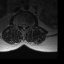CCS_normal: (23, 22, 25, 32)
LFS_severe_stenosis: (27, 22, 29, 28)
LLS_stenosis: (25, 22, 27, 29)
RFS_stenosis: (18, 22, 20, 28)
RLS_stenosis: (20, 22, 23, 28)
